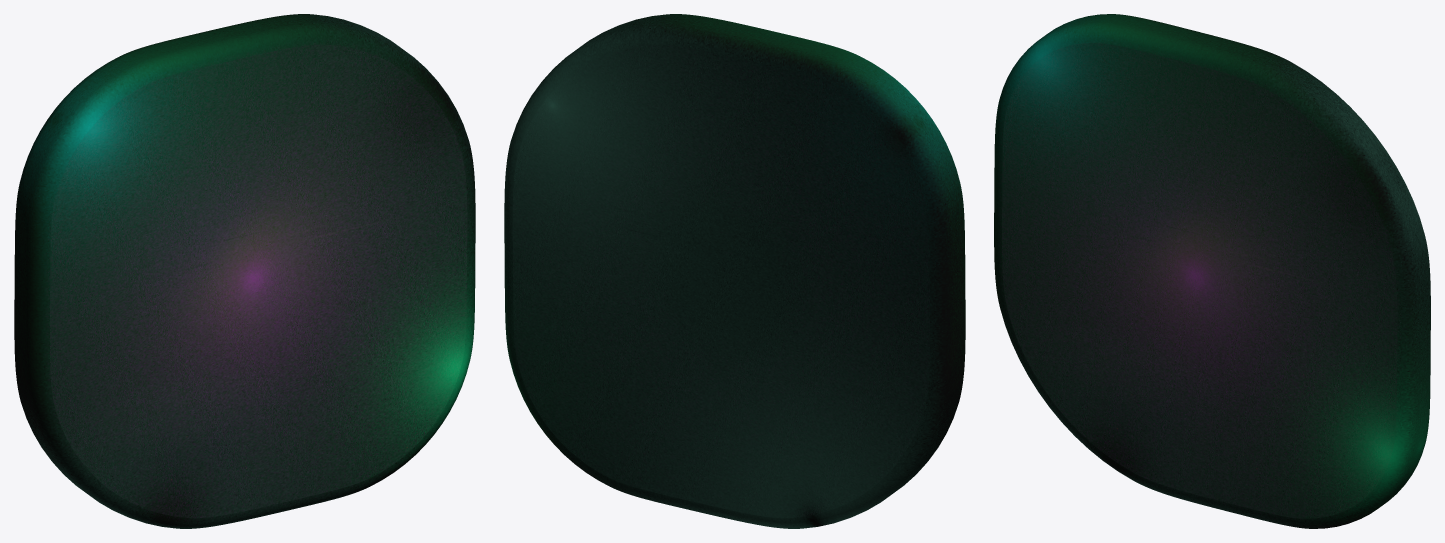
The model's file is token rectangle.gltf.
3 views of the same model, side by side, from view 1: azimuth 30°, elevation 25°; view 2: azimuth 150°, elevation 25°; view 3: azimuth 330°, elevation 25° (orthographic). The views are drawn at different scales.
Parts seen in each view (by area): view 1: Curve.009; view 2: Curve.009; view 3: Curve.009.
Boxes of the visible parts, x1,y1,x2,y2 form: Curve.009: [14, 14, 475, 528]; Curve.009: [504, 14, 965, 528]; Curve.009: [994, 14, 1430, 528].
Size of the model in its own units: 18.83 by 19.57 by 1.98.
1 material, 1 textured.
